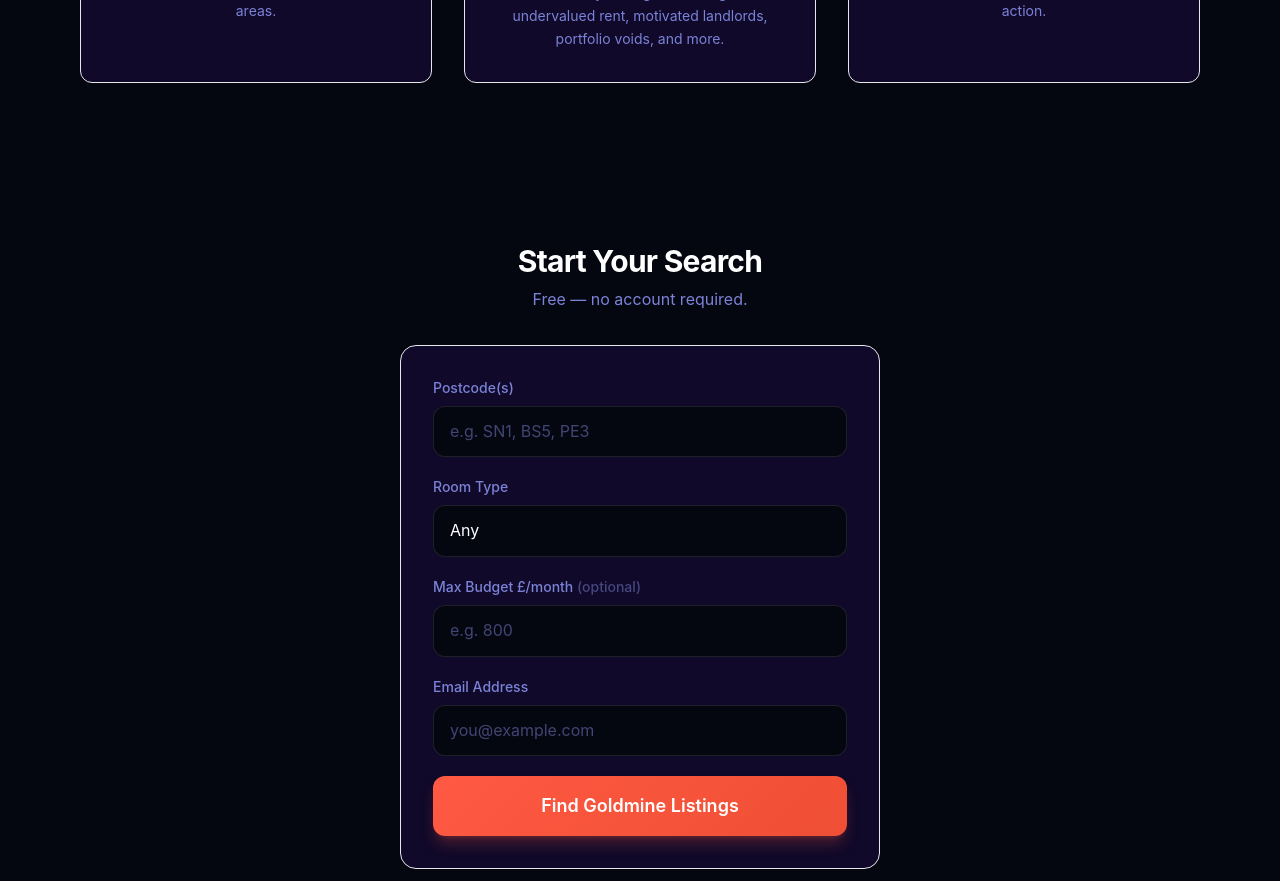
Test: GoldmineFinder — Section B: Form Validation Errors › shows inline error when postcode format is invalid
The width and height of the screenshot is (1280, 881).
(page scrolled)
Type "NOTAPOSTCODE" into the field with placeholder "e.g. SN1, BS5, PE3" at {"x": 640, "y": 432}, box [433,406,847,457]
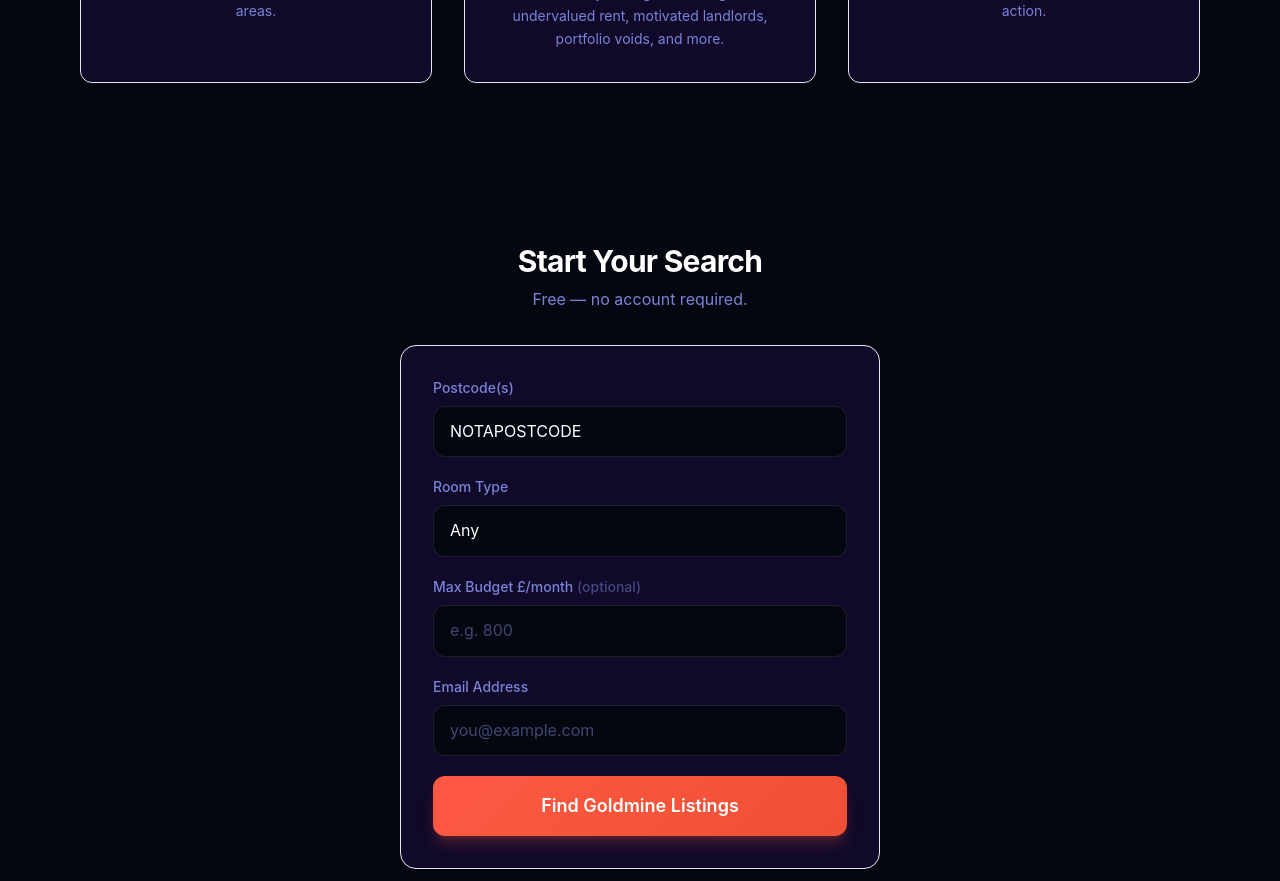
Type "jane@hmolettings.co.uk" into the field with placeholder "you@example.com" at {"x": 640, "y": 730}, box [433,705,847,756]
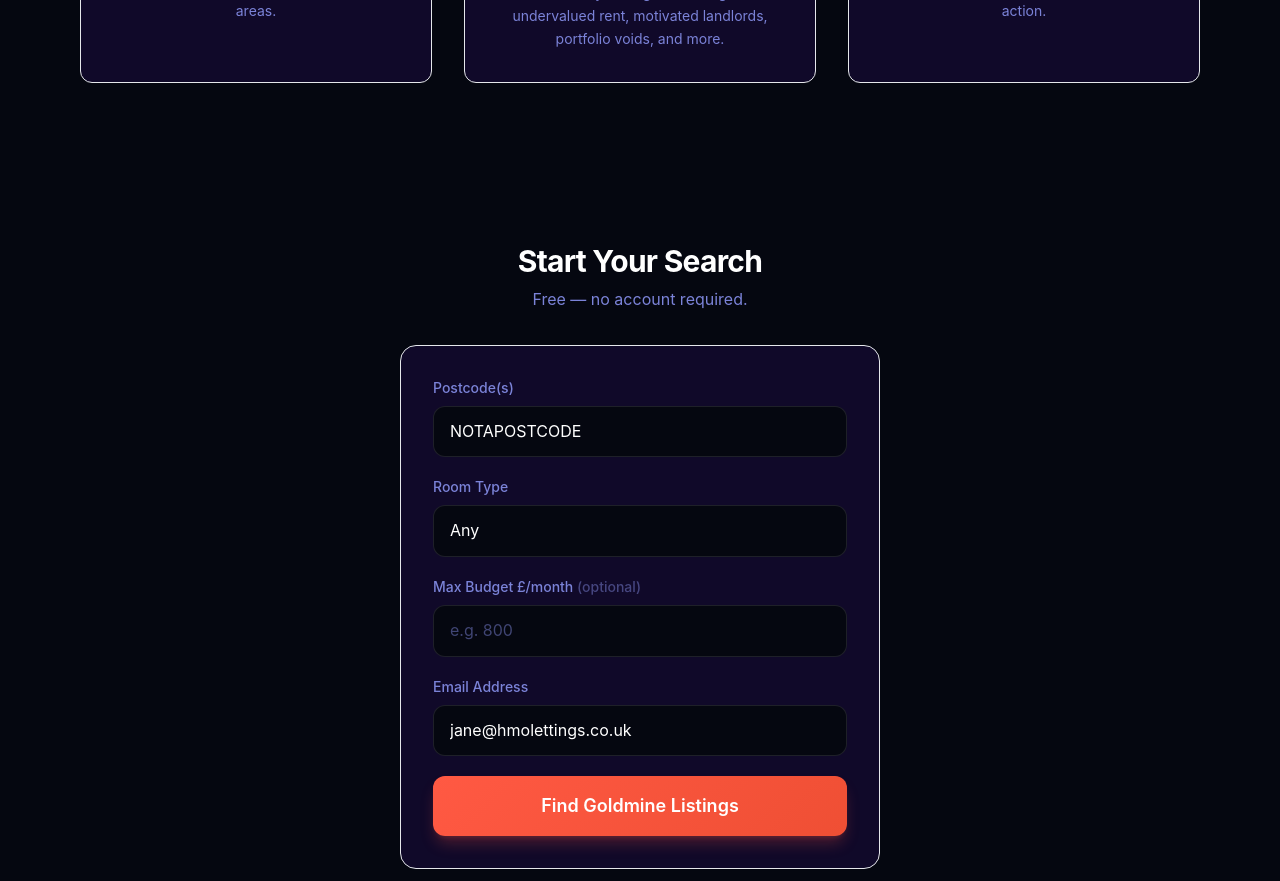
Click the button "Find Goldmine Listings" at {"x": 640, "y": 806}, box [433,776,847,836]
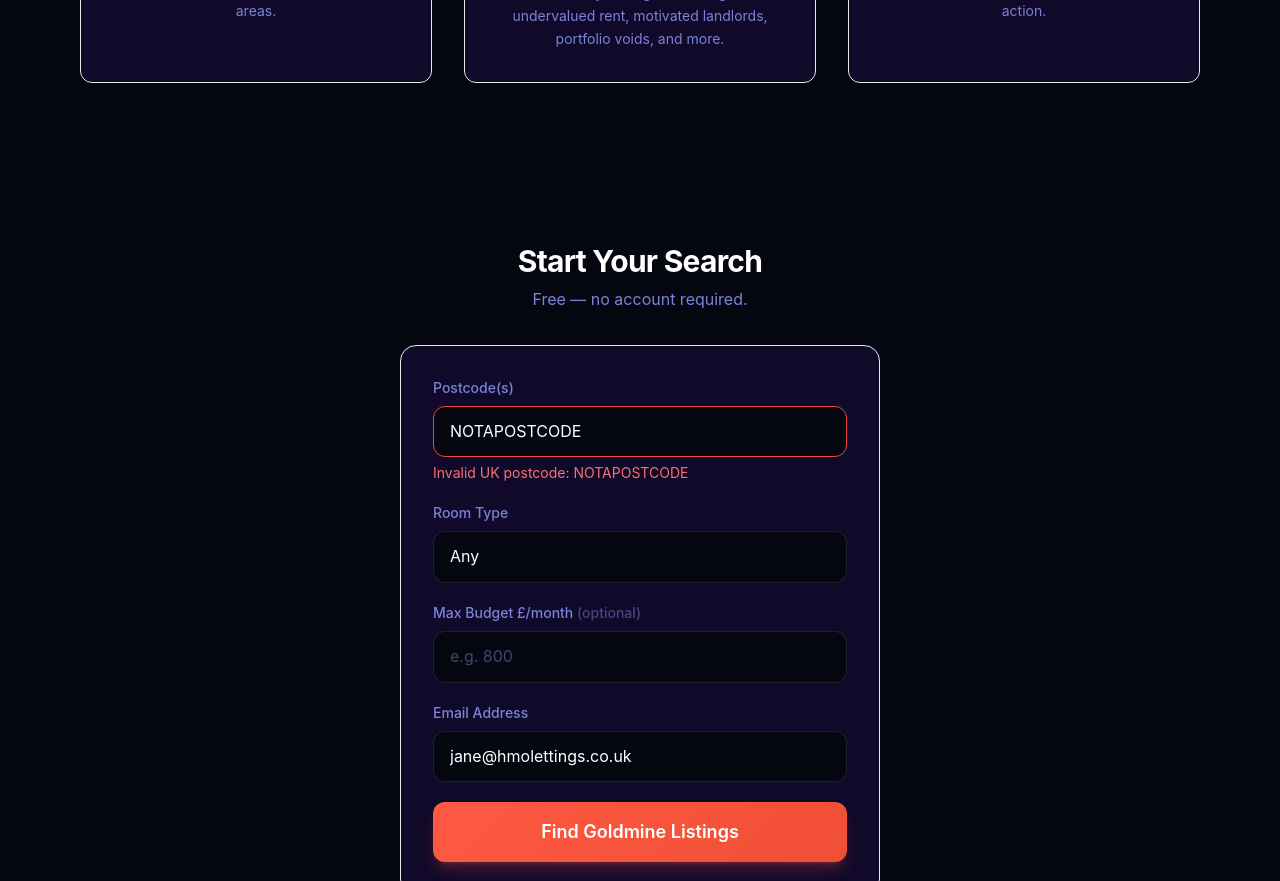
Expected: the text "Invalid UK postcode: NOTAPOSTCODE" is shown, [433,464,688,481]
